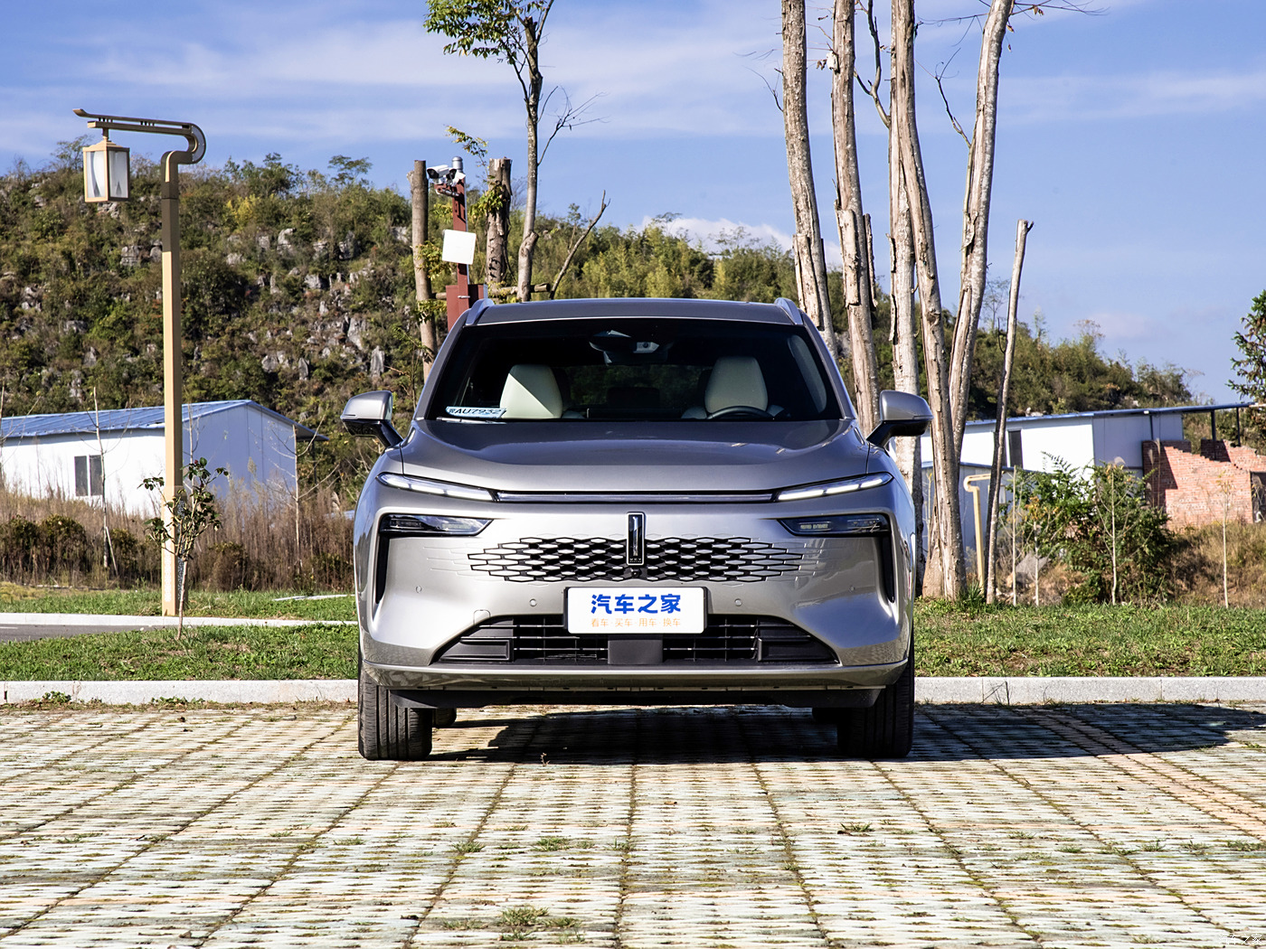WEY: (628, 514, 643, 564)
